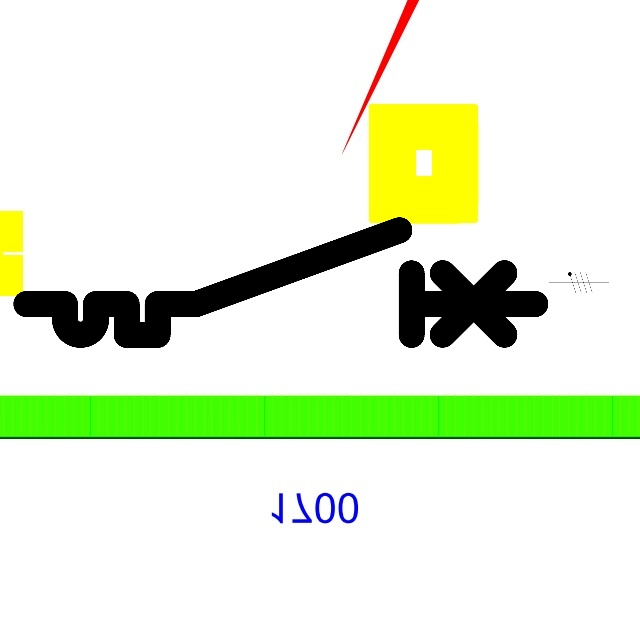interruptor_termomagnetico: (13, 217, 548, 348)
